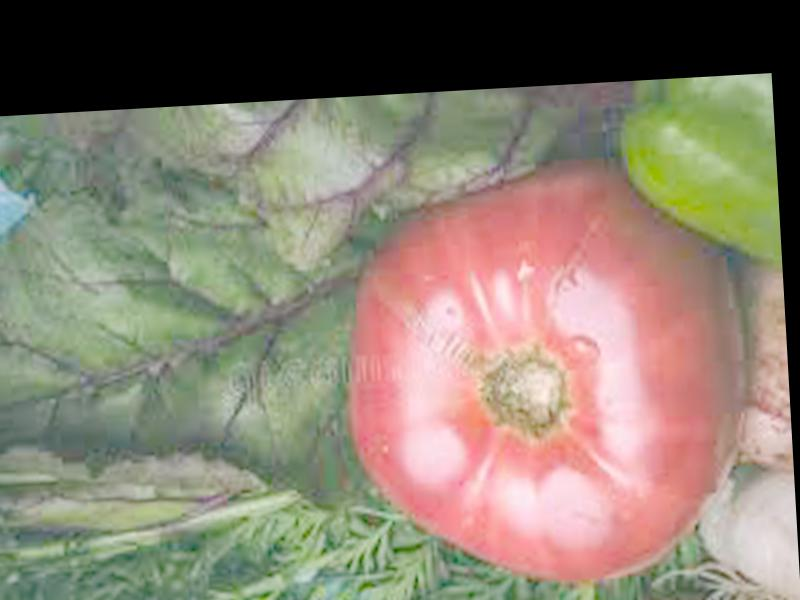Tomato: (337, 149, 762, 594)
